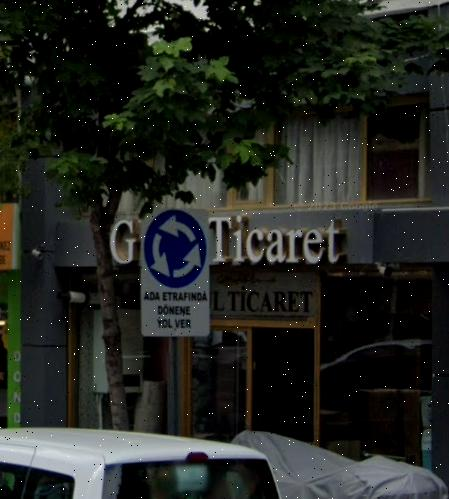crossroads: (149, 212, 205, 288)
